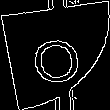O_N: (26, 26, 84, 84)
